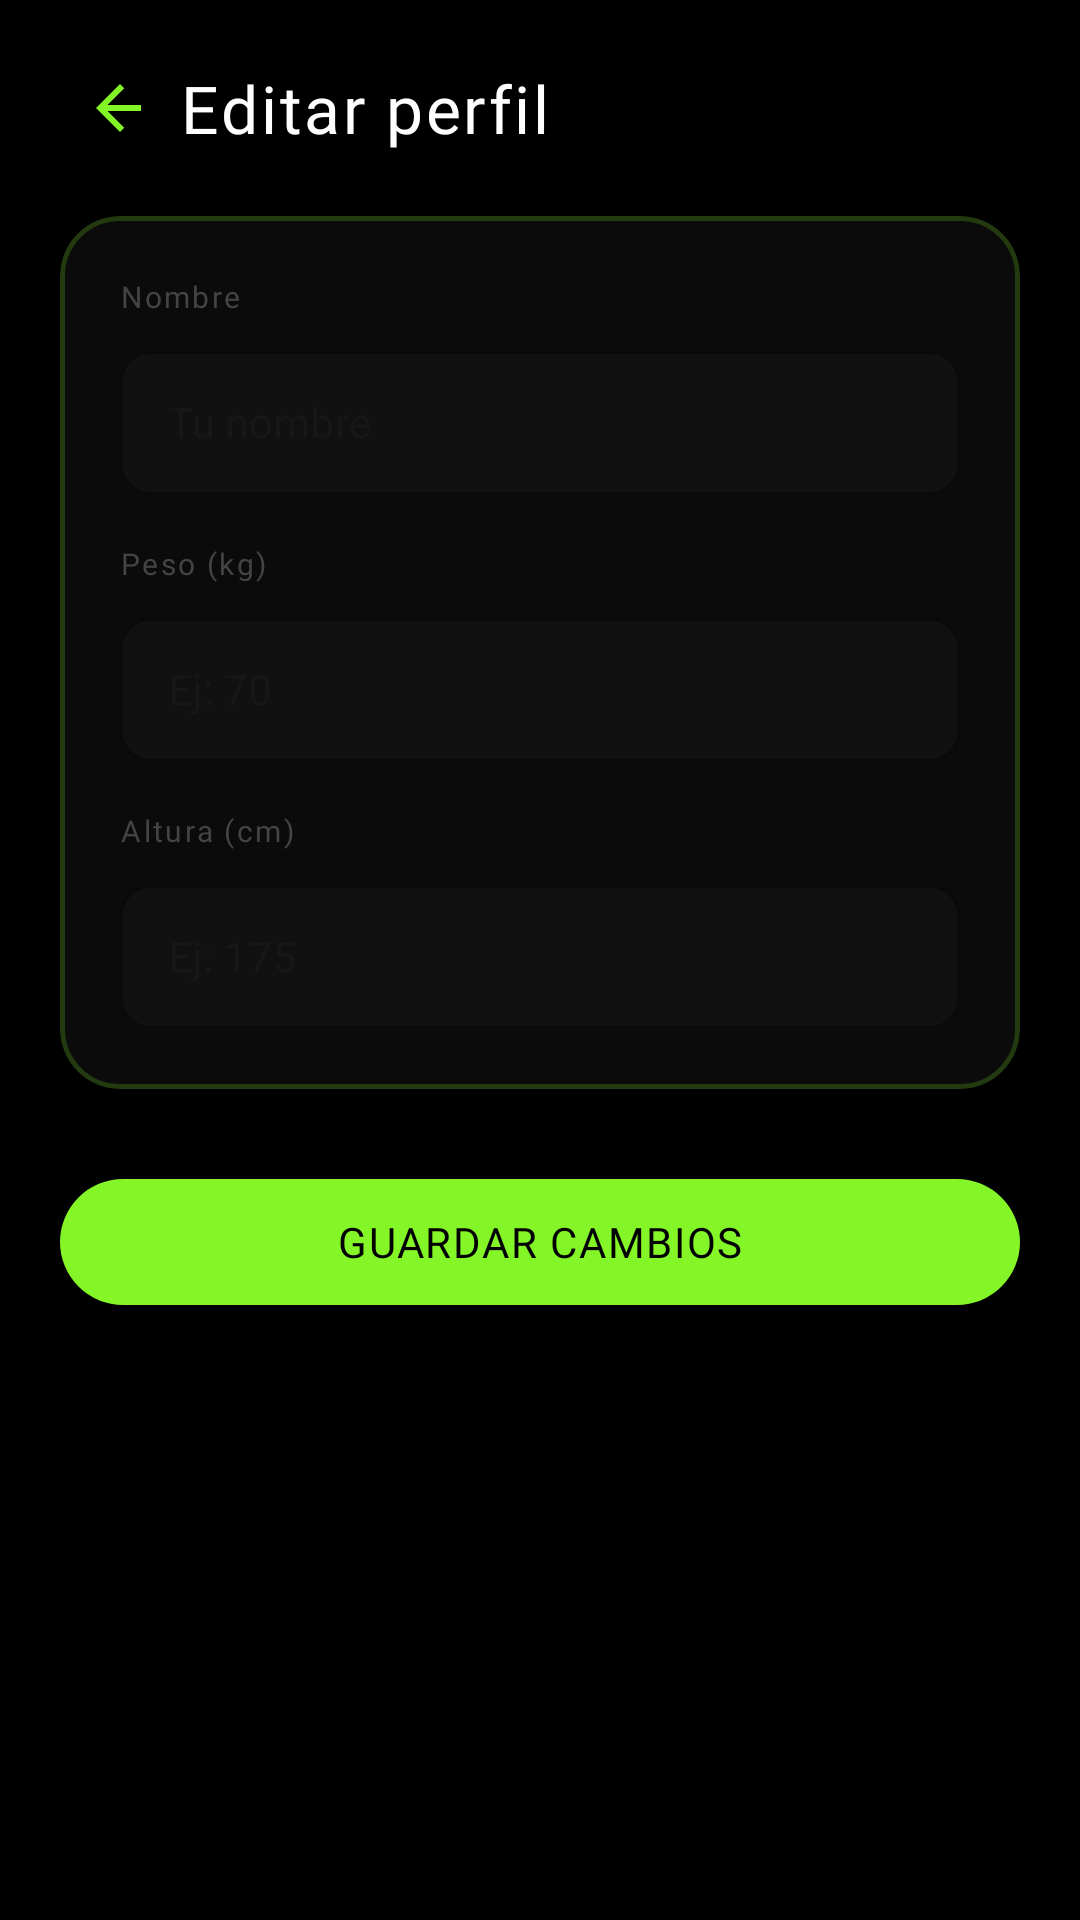

Where icons sit on this 1080*1920 app screen, as box=[x1, y1, x2, y2]:
arrow back: box=[96, 84, 141, 132]
